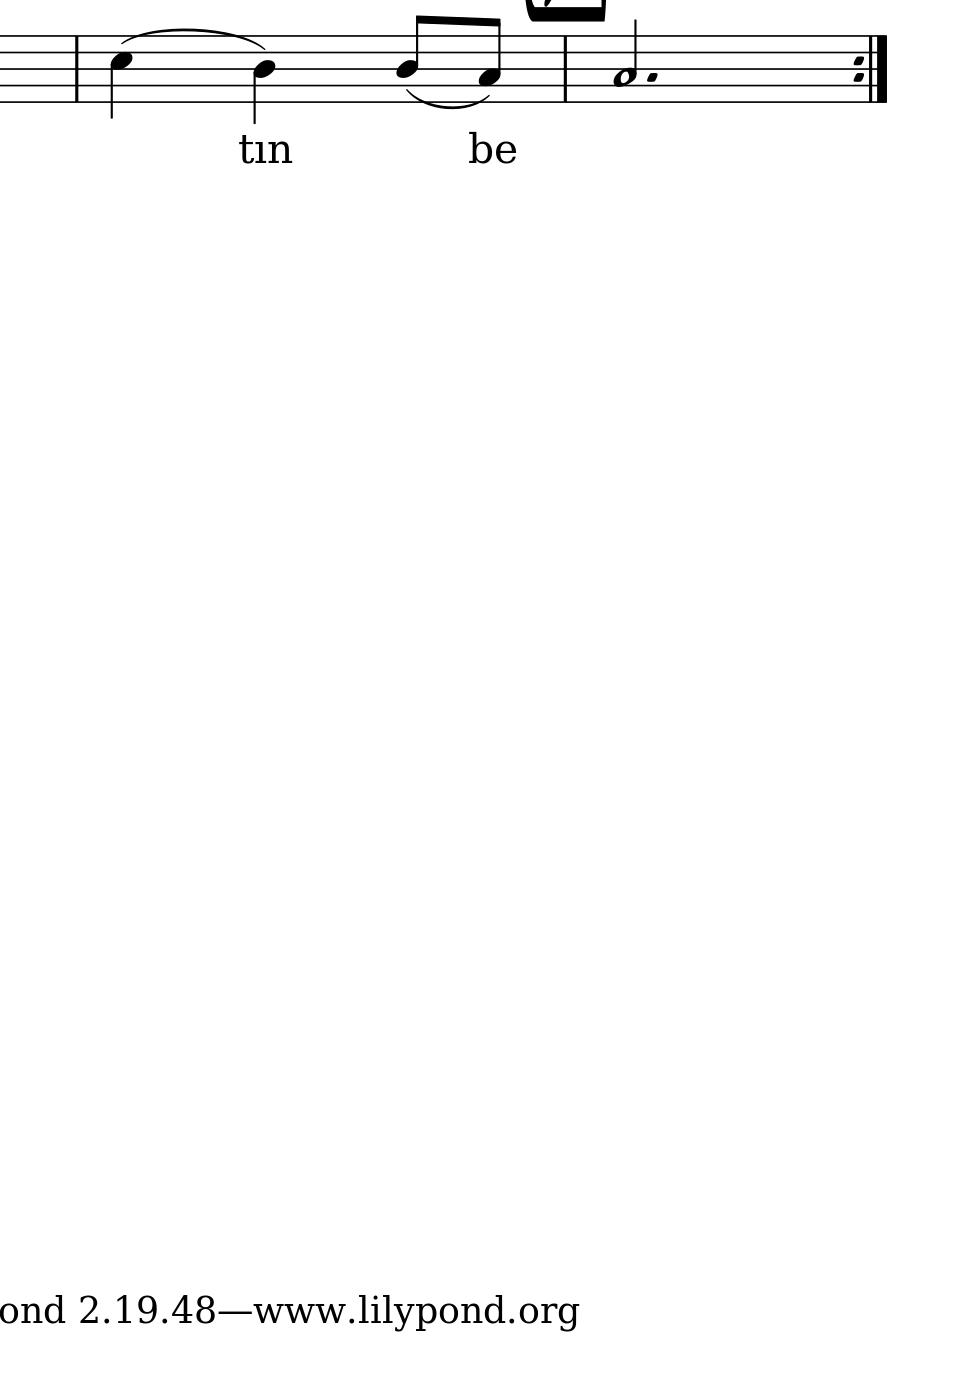2_3: (612, 18, 638, 105)
4_4: (253, 34, 278, 125)
4_5: (109, 35, 133, 120)
8_3: (478, 17, 501, 103)
8_4: (396, 13, 428, 104)
RightRepeatSign: (852, 34, 889, 104)
Single_barline: (557, 37, 573, 102), (69, 35, 84, 102)
Slur: (123, 27, 262, 53), (407, 87, 488, 111)
dot: (643, 70, 659, 84)
